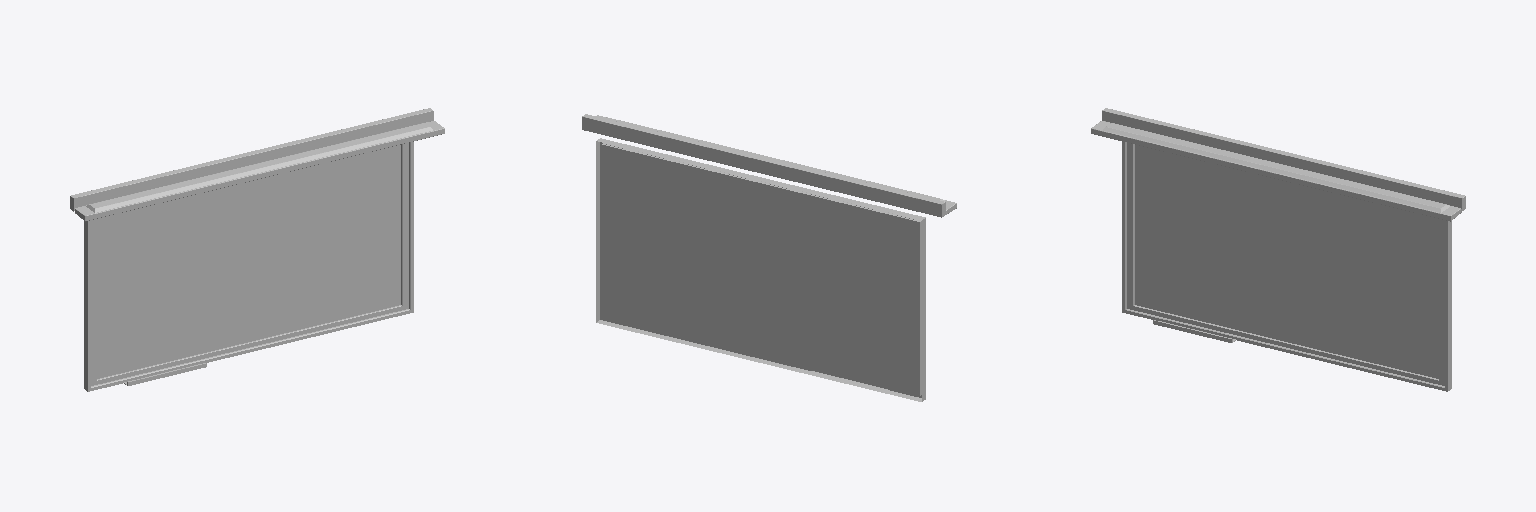
The model's file is board.obj.
3 views of the same model, side by side, from view 1: azimuth 30°, elevation 25°; view 2: azimuth 150°, elevation 25°; view 3: azimuth 330°, elevation 25° (orthographic).
Parts seen in each view (by area): view 1: blackBoard, boardFrame, blackBoardLamp, blackBoard_upPart; view 2: blackBoard, boardFrame, blackBoard_upPart, blackBoardLamp; view 3: blackBoard, boardFrame, blackBoardLamp, blackBoard_upPart.
Boxes of the visible parts, box(x1,y1,x2,y2) form: blackBoard: box(97, 145, 400, 378); boardFrame: box(84, 142, 413, 391); blackBoardLamp: box(75, 121, 444, 221); blackBoard_upPart: box(70, 108, 433, 211); blackBoard: box(608, 151, 912, 389); boardFrame: box(596, 138, 925, 401); blackBoard_upPart: box(582, 114, 945, 217); blackBoardLamp: box(596, 115, 956, 214); blackBoard: box(1135, 145, 1438, 378); boardFrame: box(1122, 142, 1451, 391); blackBoardLamp: box(1091, 121, 1461, 221); blackBoard_upPart: box(1102, 108, 1465, 210).
Bounding box in the file's own units: 2.6 × 1.38 × 0.2284.